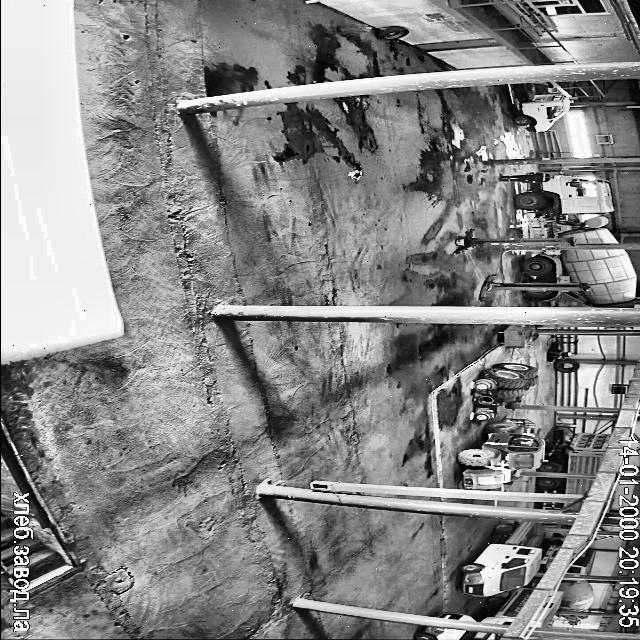car lift: (455, 229, 574, 253), (479, 274, 588, 300)
mechanic: (500, 172, 555, 182)
tractor: (459, 418, 544, 489), (474, 362, 537, 420)
truck: (516, 176, 636, 306), (460, 521, 541, 596), (539, 433, 612, 473), (514, 83, 570, 132), (487, 588, 532, 621), (413, 626, 498, 640), (558, 580, 594, 610), (539, 477, 592, 494), (538, 592, 562, 627), (541, 534, 563, 568), (567, 549, 594, 574), (543, 500, 578, 510), (439, 612, 476, 620), (564, 616, 587, 623)
